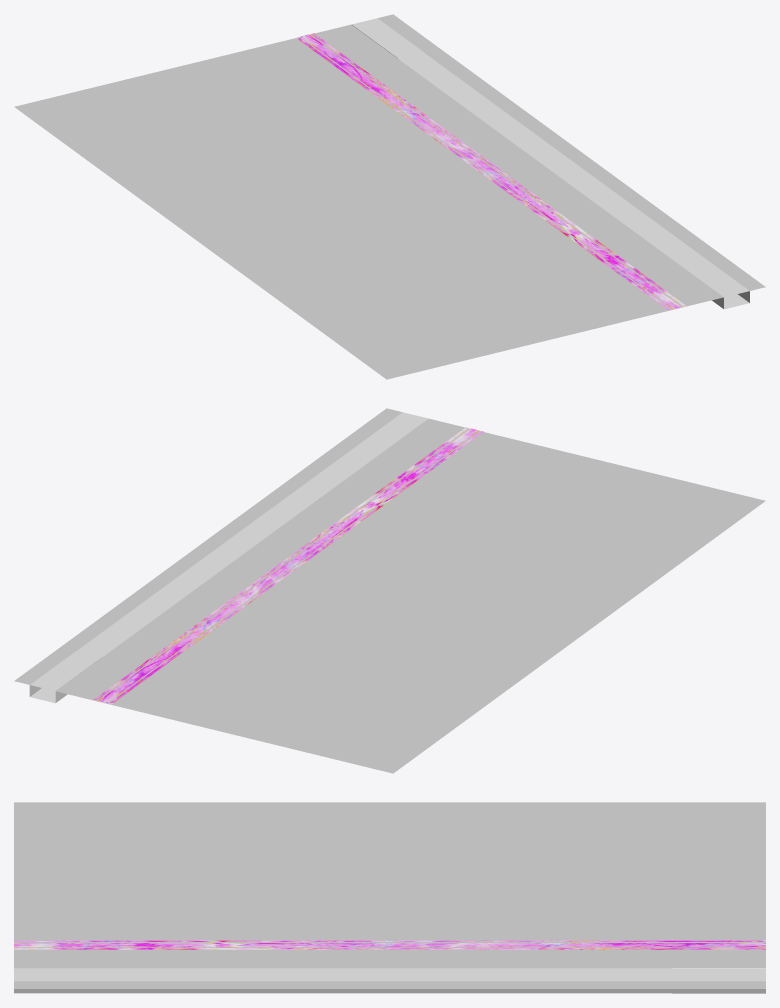
File: floor_04.fbx
The picture shows the model from 3 angles, top to bottom: view 1: azimuth 30°, elevation 25°; view 2: azimuth 150°, elevation 25°; view 3: azimuth 270°, elevation 25°; orthographic projection.
Parts seen in each view (by area): view 1: Plane.182, Plane.185, Plane.183, Plane.184; view 2: Plane.182, Plane.185, Plane.183, Plane.184; view 3: Plane.182, Plane.185, Plane.183, Plane.184.
Boxes of the visible parts, box(x1,y1,x2,y2) form: Plane.182: box(14, 14, 765, 379); Plane.185: box(67, 114, 447, 358); Plane.183: box(351, 18, 749, 309); Plane.184: box(296, 33, 685, 310); Plane.182: box(14, 408, 765, 773); Plane.185: box(337, 498, 721, 746); Plane.183: box(29, 412, 428, 703); Plane.184: box(94, 427, 483, 704); Plane.182: box(14, 802, 765, 988); Plane.185: box(54, 814, 708, 864); Plane.183: box(14, 968, 765, 993); Plane.184: box(14, 940, 765, 949).
Bounding box in the file's own units: 2.35 × 0.0745 × 4.
